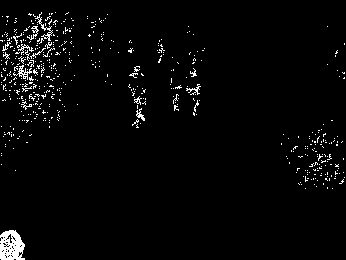person: (120, 65, 151, 129)
